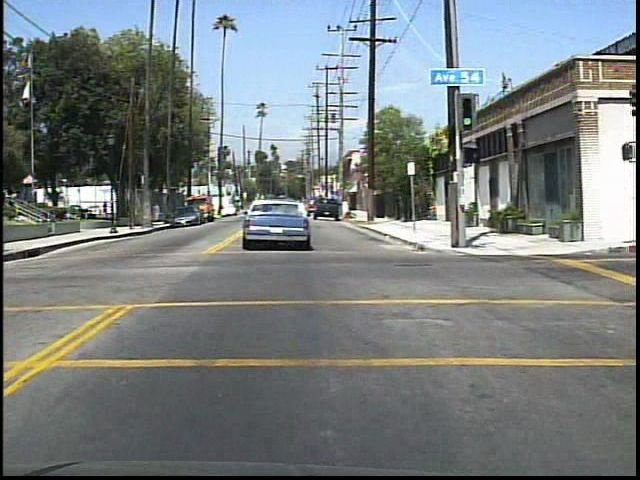person: (151, 200, 163, 227), (120, 196, 134, 219), (100, 198, 110, 220)
